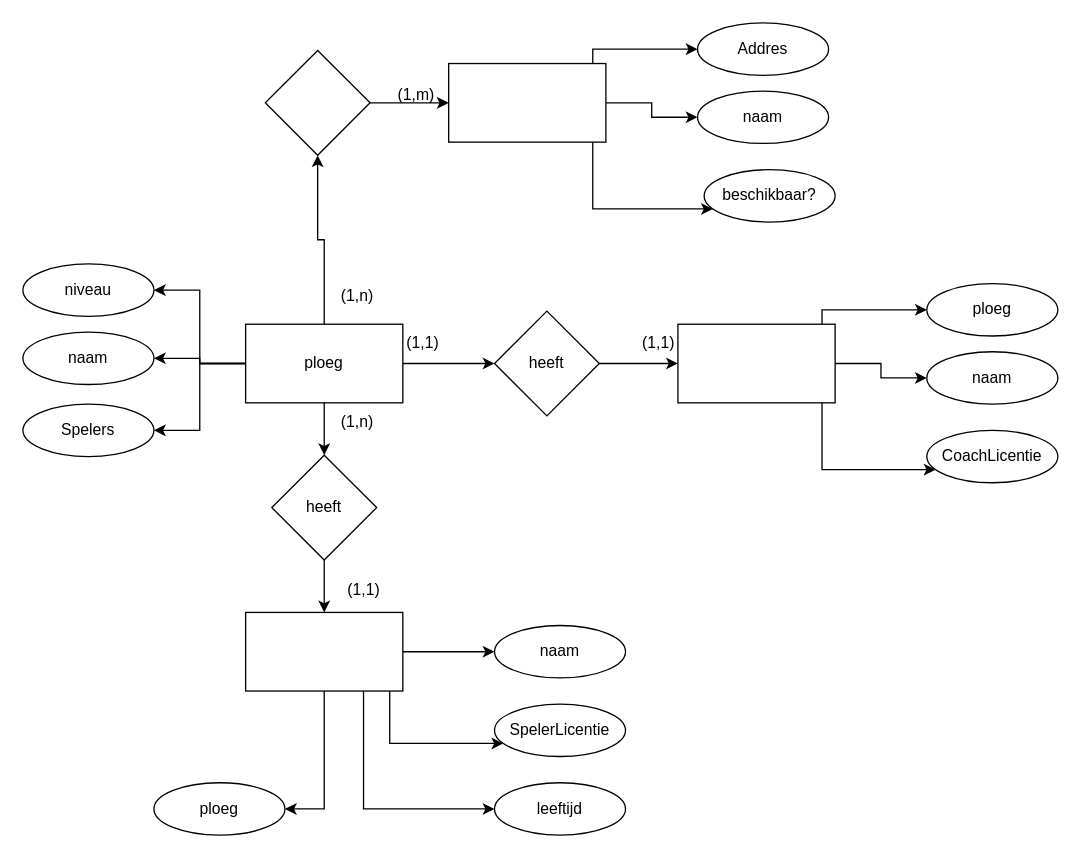
Image size: 1081x858. Some labels were removed from this diagram. Here are the shapes that lost their labels. From the top down, the box of each, then its label:
(264, 49, 370, 155): gebruikt
(447, 62, 606, 142): zaal
(677, 323, 835, 403): coach
(244, 611, 403, 691): speler
